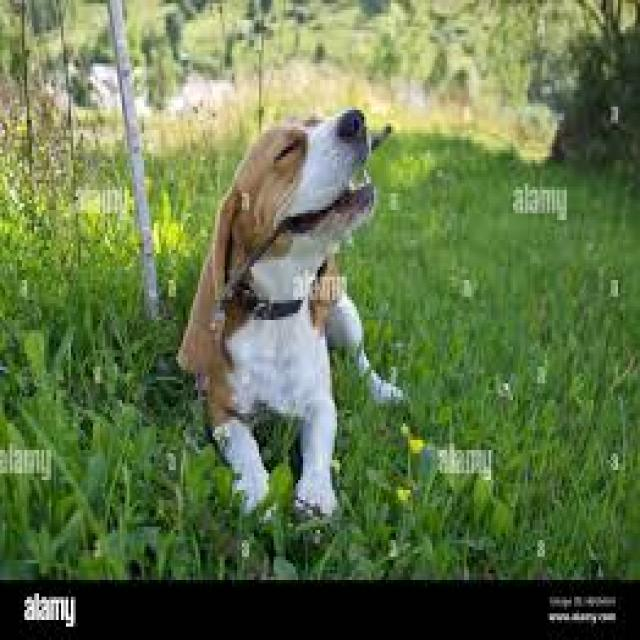Dog: (173, 92, 412, 531)
